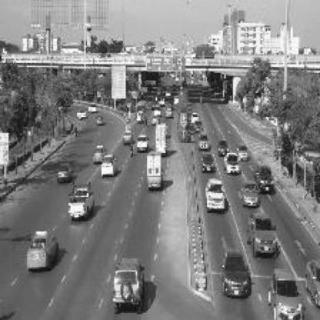other: (246, 207, 284, 254)
